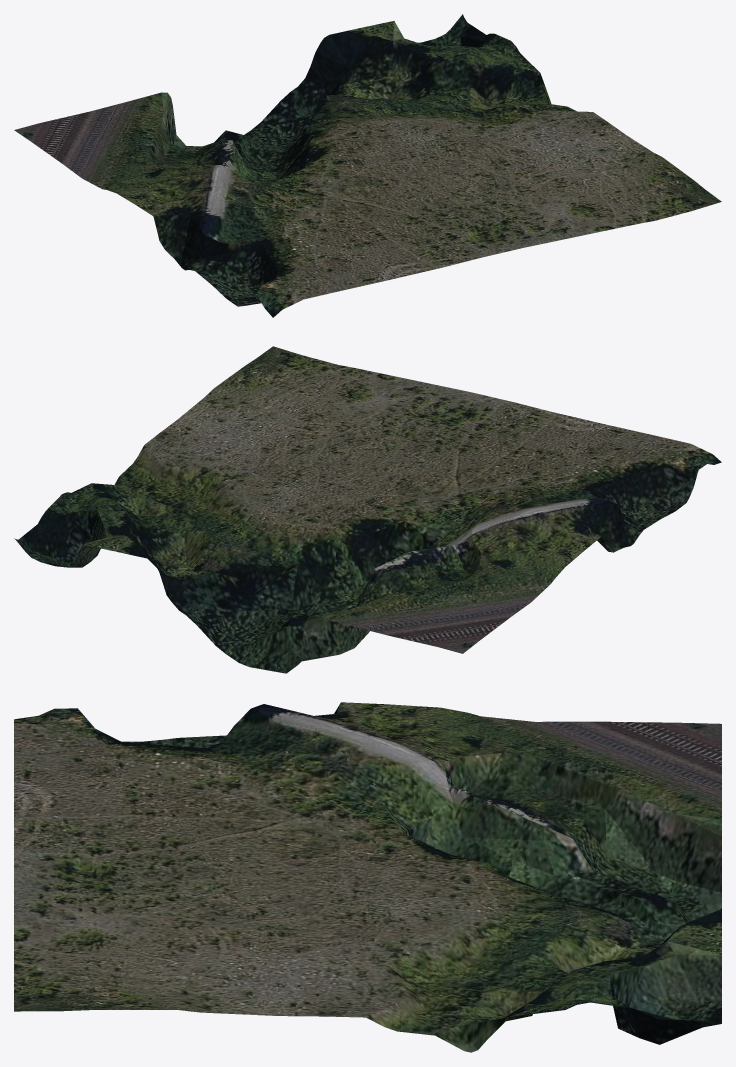
Rendered from map_15_8177_13781.dae.
3 renders of one model, top to bottom at view 1: azimuth 30°, elevation 25°; view 2: azimuth 150°, elevation 25°; view 3: azimuth 270°, elevation 25°, orthographic. The views are drawn at different scales.
Visible parts, largest first — view 1: Ter0; view 2: Ter0; view 3: Ter0.
Part boxes in pixels (x1=…): Ter0: x1=14, y1=14, x2=721, y2=317; Ter0: x1=14, y1=346, x2=721, y2=673; Ter0: x1=14, y1=702, x2=721, y2=1052.
Size of the model in its own units: 63.87 by 63.88 by 12.46.
2 materials, 2 textured.
